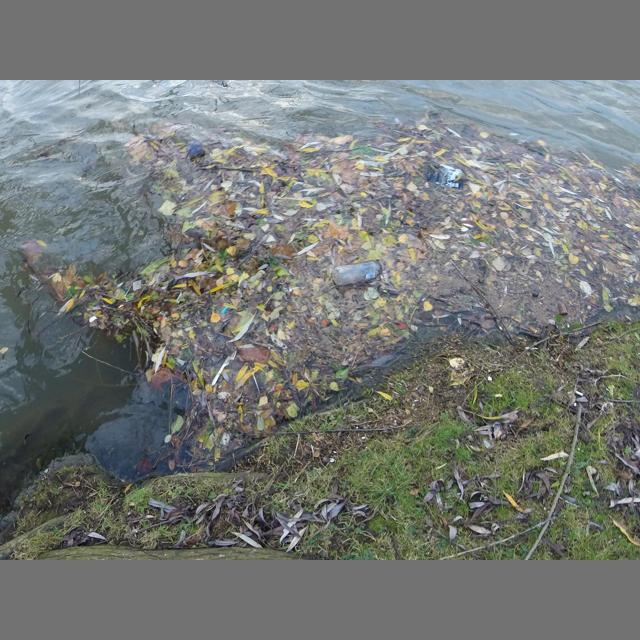litter: (332, 261, 382, 285), (424, 161, 465, 190), (186, 141, 204, 158)
